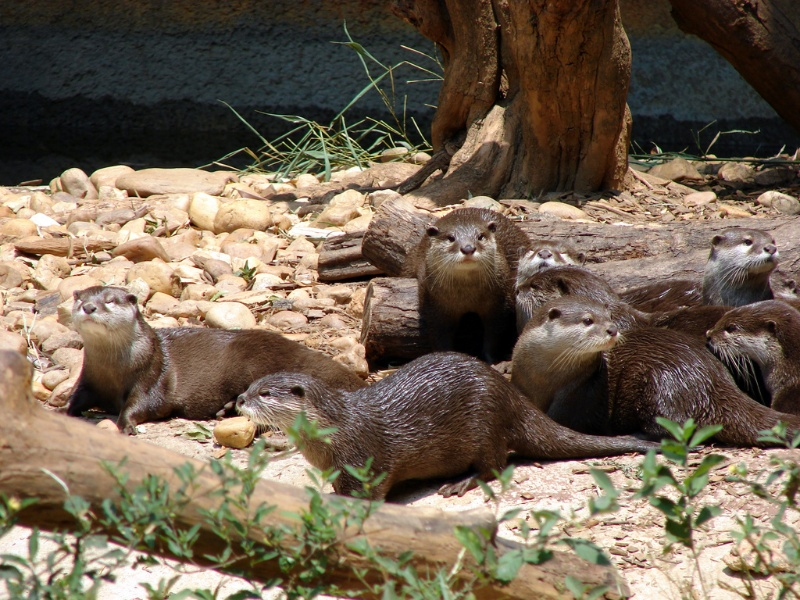minkish: (236, 359, 663, 499), (60, 280, 375, 444), (509, 265, 792, 446), (412, 211, 523, 329), (517, 301, 619, 405), (701, 298, 800, 399), (691, 224, 779, 310)
